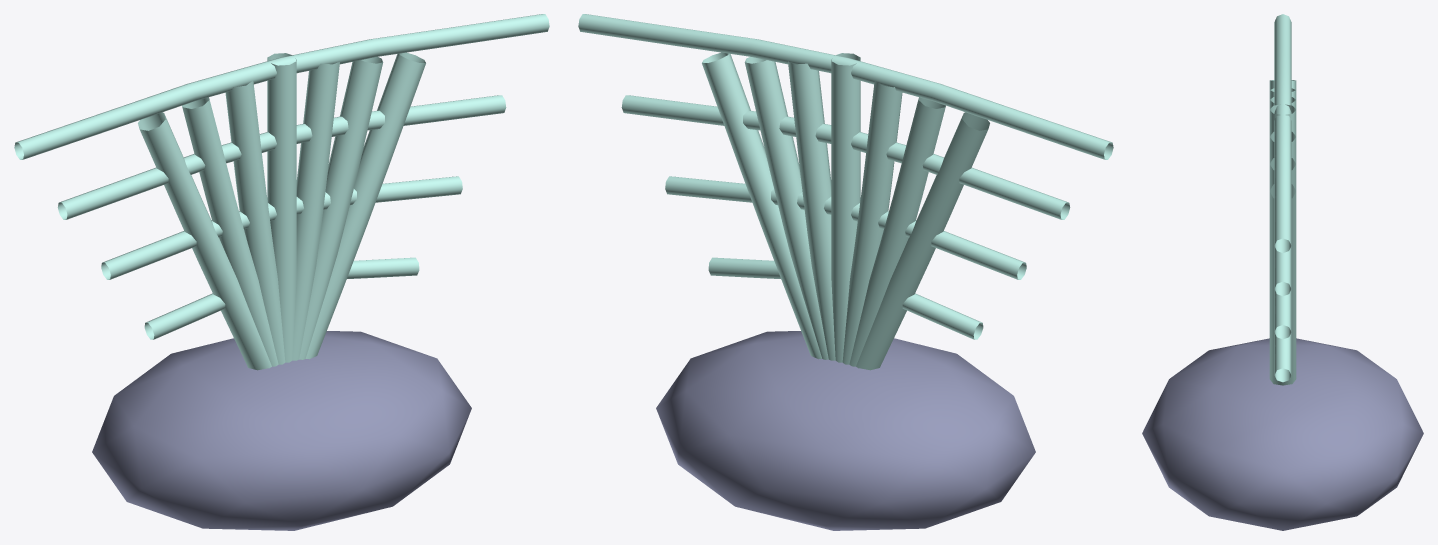
File: coral5.glb
3 views of the same model, side by side, from view 1: azimuth 30°, elevation 25°; view 2: azimuth 150°, elevation 25°; view 3: azimuth 270°, elevation 25° (orthographic). The views are drawn at different scales.
Visible parts, largest first — view 1: RootStone.005, FanCross_3, FanBranch_0, FanBranch_6, FanBranch_3, FanBranch_5, FanBranch_4, FanBranch_2, FanBranch_1, FanCross_2, FanCross_1, FanCross_0; view 2: RootStone.005, FanCross_3, FanBranch_0, FanBranch_6, FanBranch_3, FanBranch_5, FanBranch_4, FanBranch_2, FanBranch_1, FanCross_2, FanCross_1, FanCross_0; view 3: RootStone.005, FanCross_3, FanBranch_6, FanCross_1, FanCross_2, FanCross_0, FanBranch_3.
Boxes of the visible parts, x1,y1,x2,y2 form: RootStone.005: (92, 331, 471, 530); FanCross_3: (14, 14, 549, 159); FanBranch_0: (138, 112, 271, 370); FanBranch_6: (305, 52, 425, 359); FanBranch_3: (267, 53, 296, 362); FanBranch_5: (299, 56, 383, 359); FanBranch_4: (292, 61, 339, 360); FanBranch_2: (225, 81, 285, 364); FanBranch_1: (182, 97, 278, 366); FanCross_2: (57, 95, 506, 219); FanCross_1: (101, 176, 462, 279); FanCross_0: (144, 257, 419, 339); RootStone.005: (656, 331, 1035, 530); FanCross_3: (578, 14, 1113, 159); FanBranch_0: (856, 112, 989, 370); FanBranch_6: (702, 52, 822, 359); FanBranch_3: (831, 53, 860, 362); FanBranch_5: (744, 56, 828, 359); FanBranch_4: (788, 61, 835, 360); FanBranch_2: (842, 81, 902, 364); FanBranch_1: (849, 97, 945, 366); FanCross_2: (621, 95, 1070, 219); FanCross_1: (665, 176, 1026, 279); FanCross_0: (708, 257, 983, 339); RootStone.005: (1142, 338, 1423, 530); FanCross_3: (1274, 14, 1291, 252); FanBranch_6: (1269, 184, 1296, 385); FanCross_1: (1274, 289, 1291, 339); FanCross_2: (1274, 246, 1291, 296); FanCross_0: (1274, 333, 1291, 382); FanBranch_3: (1269, 104, 1296, 136).
Bounding box in the file's own units: 2.19 × 1.77 × 1.16.
